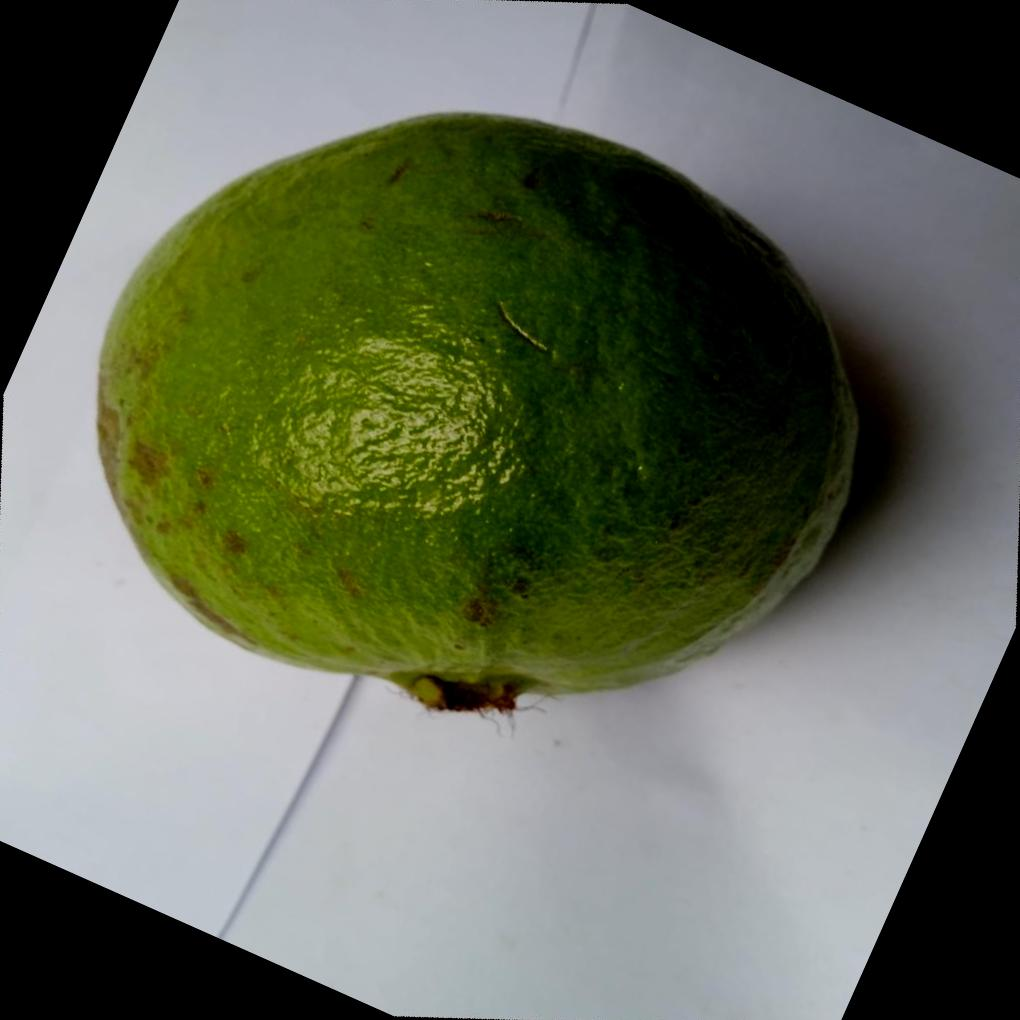FreshGuava: (93, 111, 859, 716)
